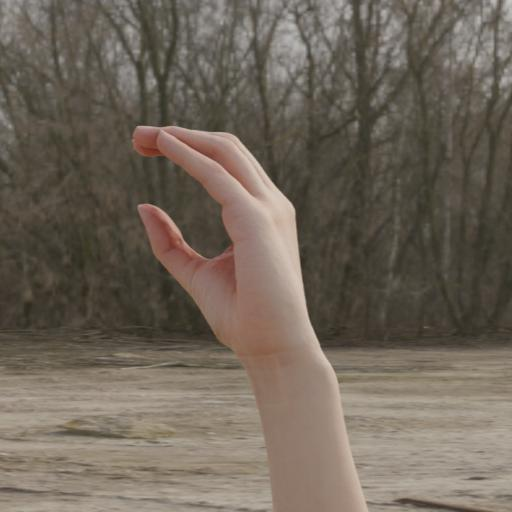C: (109, 84, 350, 452)
